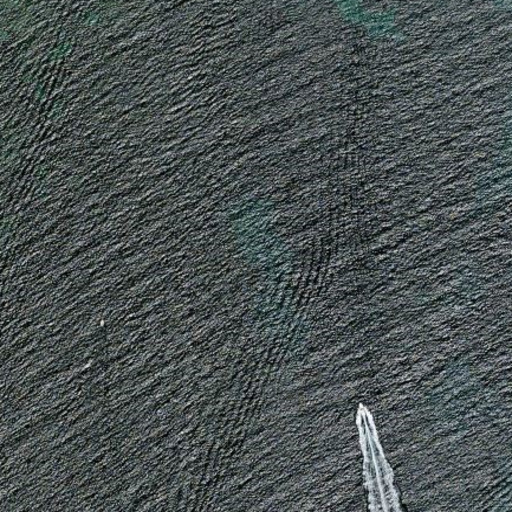ship: (355, 400, 369, 418)
